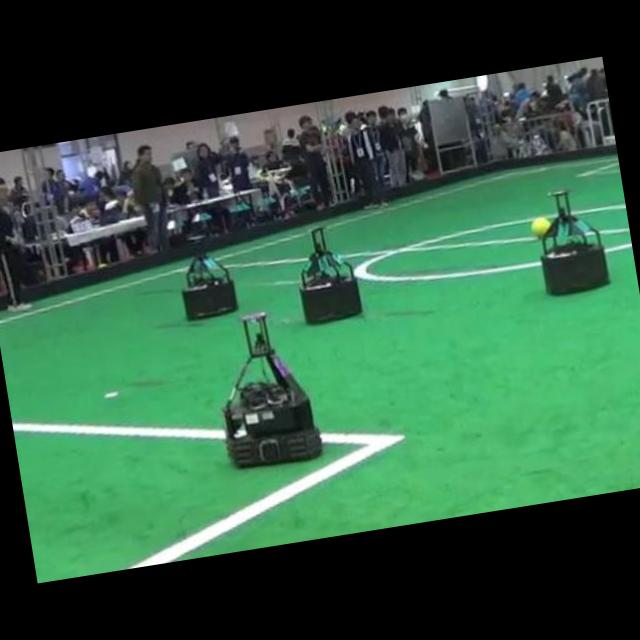ball: (531, 217, 552, 237)
robot: (224, 312, 321, 466), (541, 192, 610, 296), (300, 227, 361, 323), (182, 234, 238, 319)
